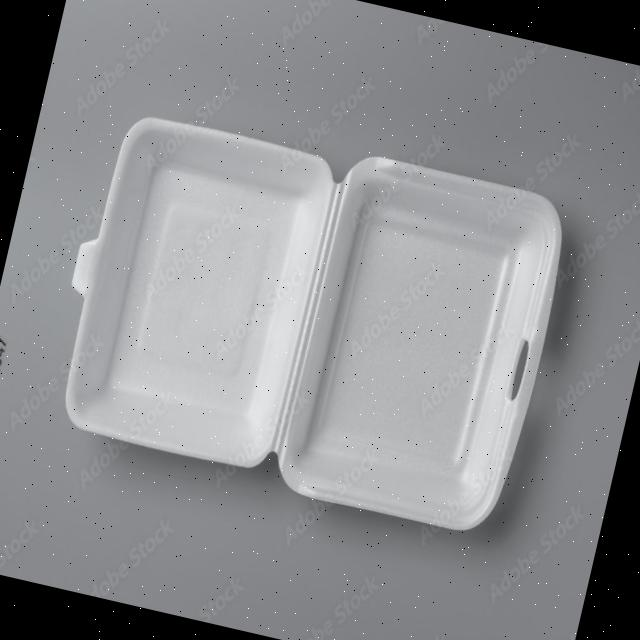styrofoam: (34, 90, 578, 542)
